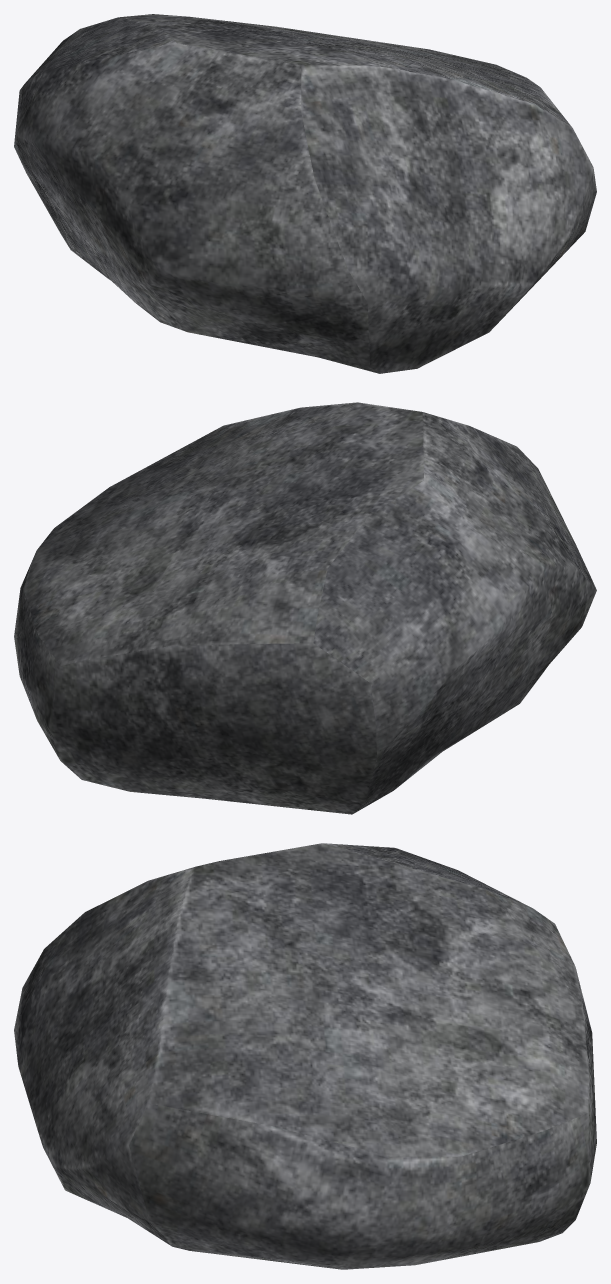
Rendered from BSwap_LPStones_01.fbx.
3 views of the same model, one above another, from view 1: azimuth 30°, elevation 25°; view 2: azimuth 150°, elevation 25°; view 3: azimuth 270°, elevation 25° (orthographic). The views are drawn at different scales.
Parts seen in each view (by area): view 1: Stone_01; view 2: Stone_01; view 3: Stone_01.
Boxes of the visible parts, x1,y1,x2,y2 form: Stone_01: [14, 14, 596, 373]; Stone_01: [14, 402, 596, 814]; Stone_01: [14, 843, 596, 1269].
Size of the model in its own units: 11269 by 6751 by 11422.
1 material, 1 textured.
